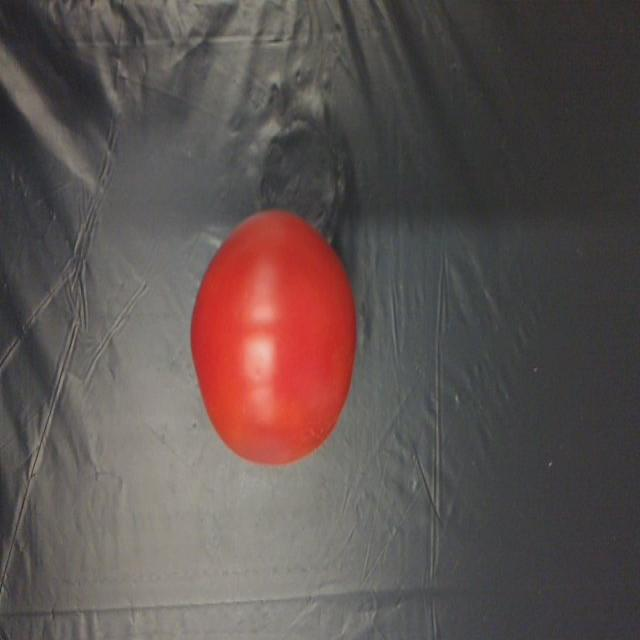kirmizi: (187, 196, 379, 474)
